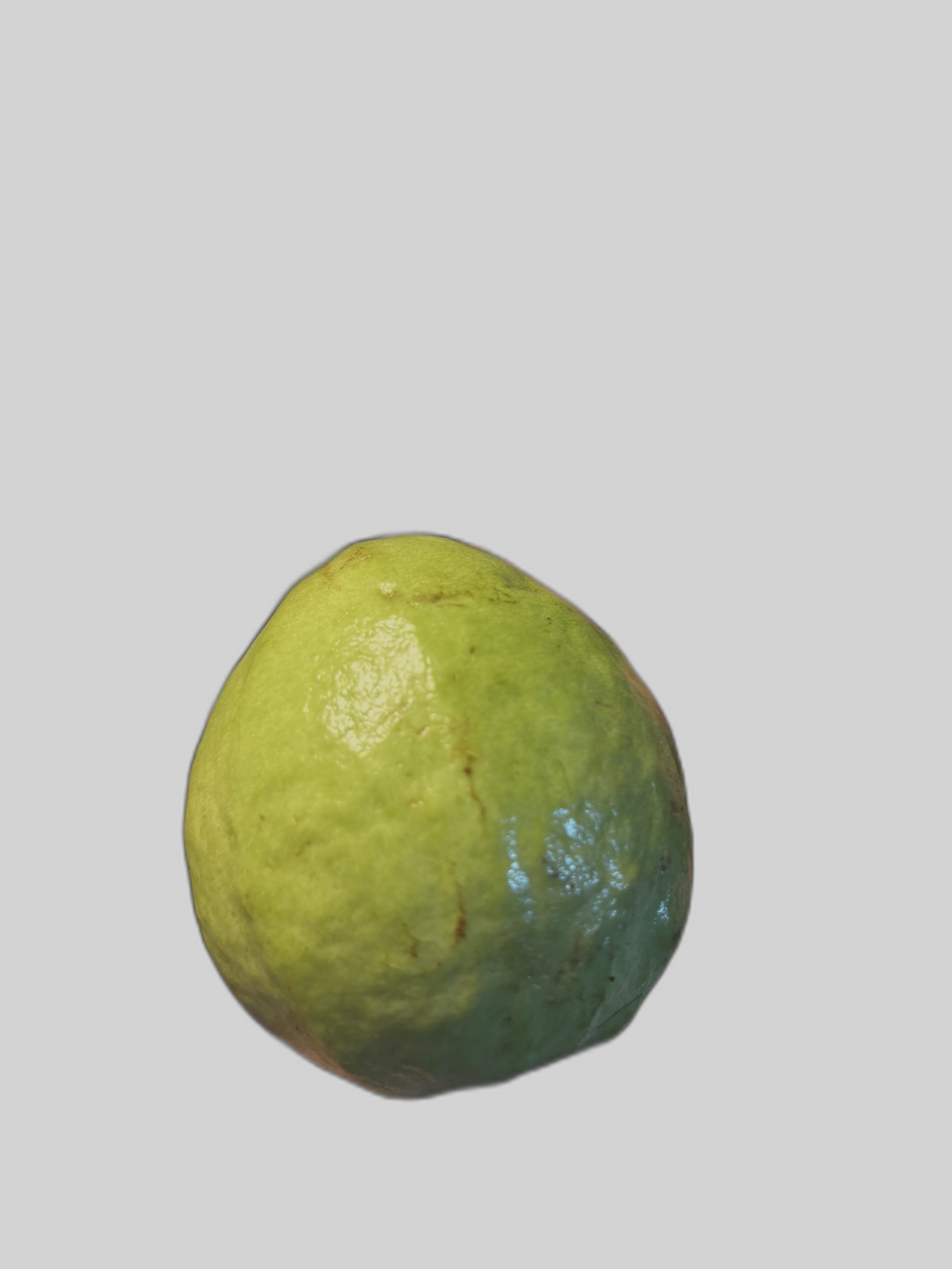guava: (8, 316, 858, 1134)
